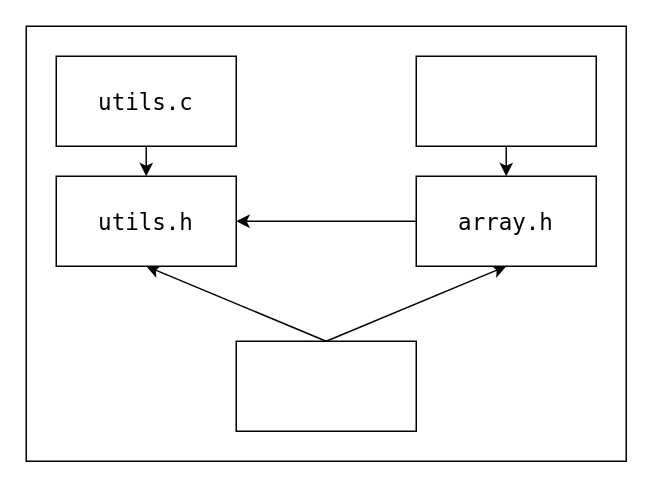
This 653x488 diagram has some shape labels left out. Each missing label, with the centre of its shape:
array.c: point 505,100
main.c: point 325,385
